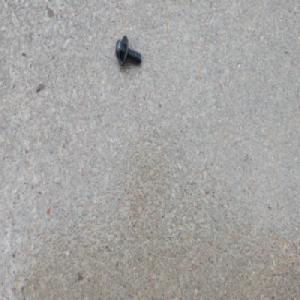BoltWasher: (115, 34, 142, 67)
